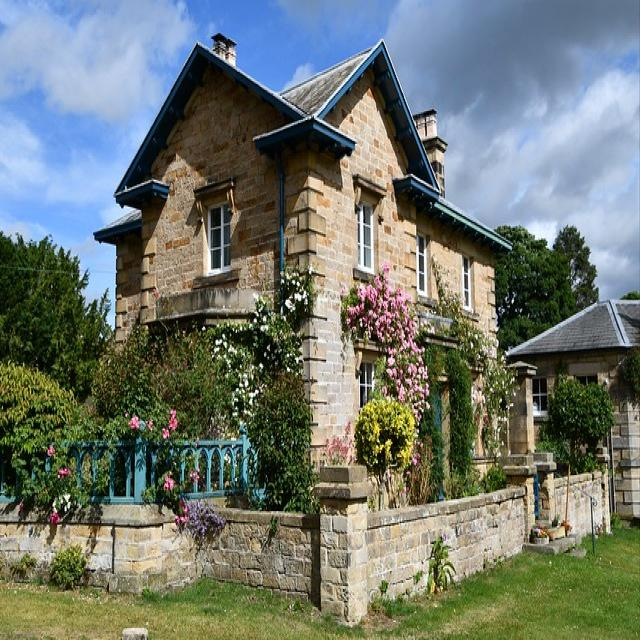Normal_building: (92, 24, 513, 612)
